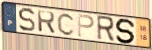C: (57, 12, 76, 37)
P: (76, 13, 95, 39)
R: (96, 15, 116, 44), (36, 9, 56, 35)
S: (114, 18, 138, 45), (17, 7, 36, 33)
